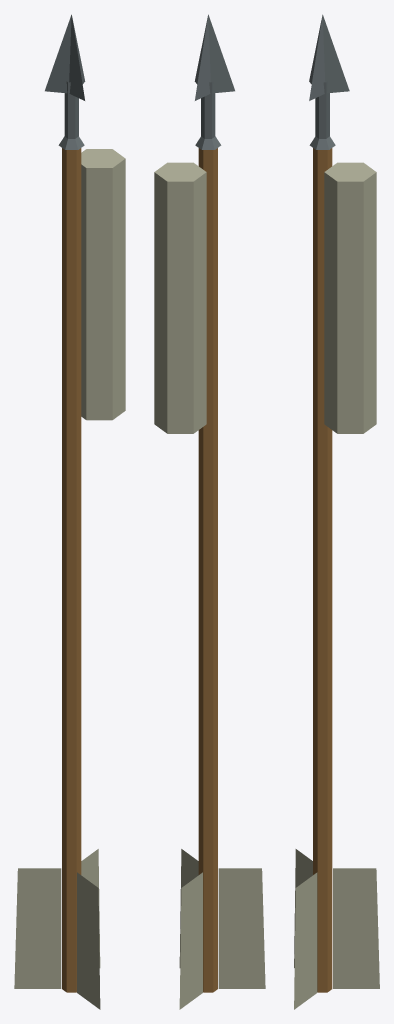
Rendered from singijeon.glb.
3 renders of one model, left to right at view 1: azimuth 30°, elevation 25°; view 2: azimuth 210°, elevation 25°; view 3: azimuth 330°, elevation 25°, orthographic.
Parts seen in each view (by area): view 1: singijeon; view 2: singijeon; view 3: singijeon.
Boxes of the visible parts, bbox=[...] form: singijeon: bbox=[14, 14, 125, 1009]; singijeon: bbox=[154, 14, 265, 1009]; singijeon: bbox=[294, 14, 379, 1009].
Bounding box in the file's own units: 0.449 × 4.63 × 0.3698.
